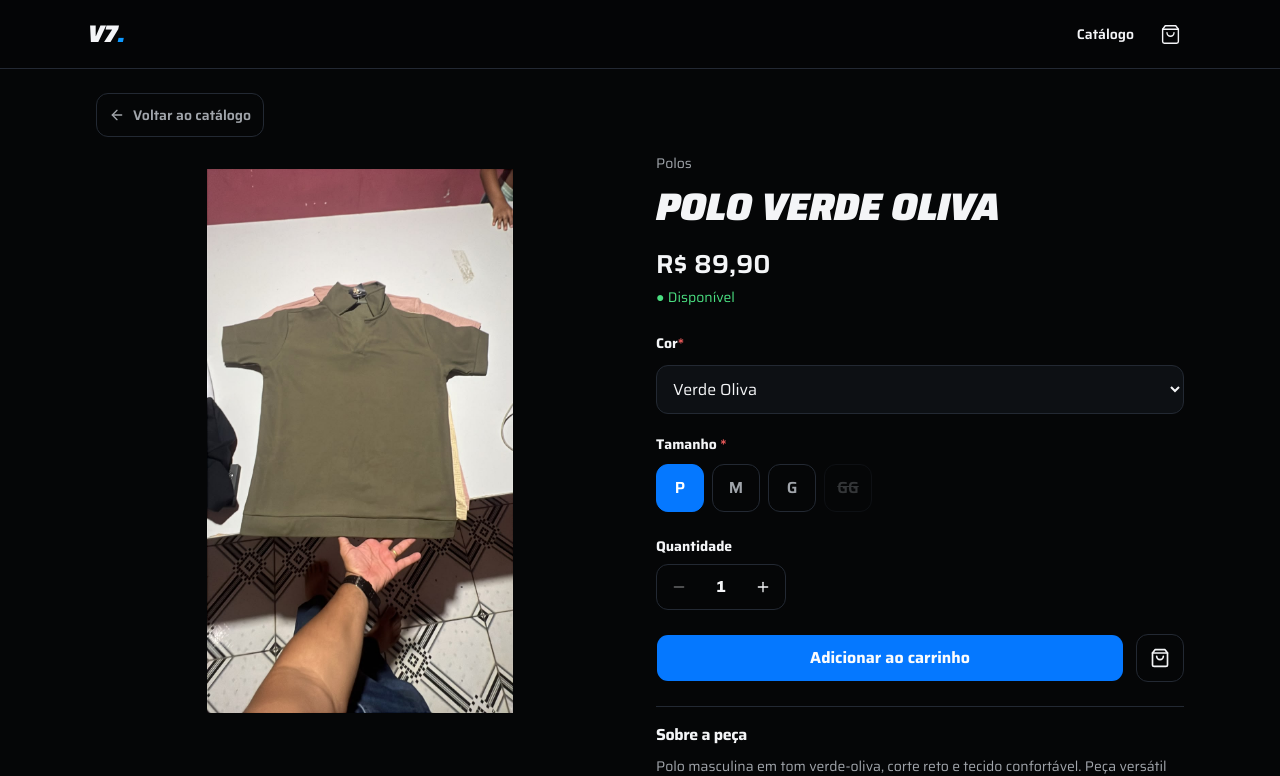
it: jornada de compra › orienta a finalização após adicionar e abre o formulário pelo aviso
Click the button "Adicionar ao carrinho".
click(890, 658)  # box [656,634,1124,682]
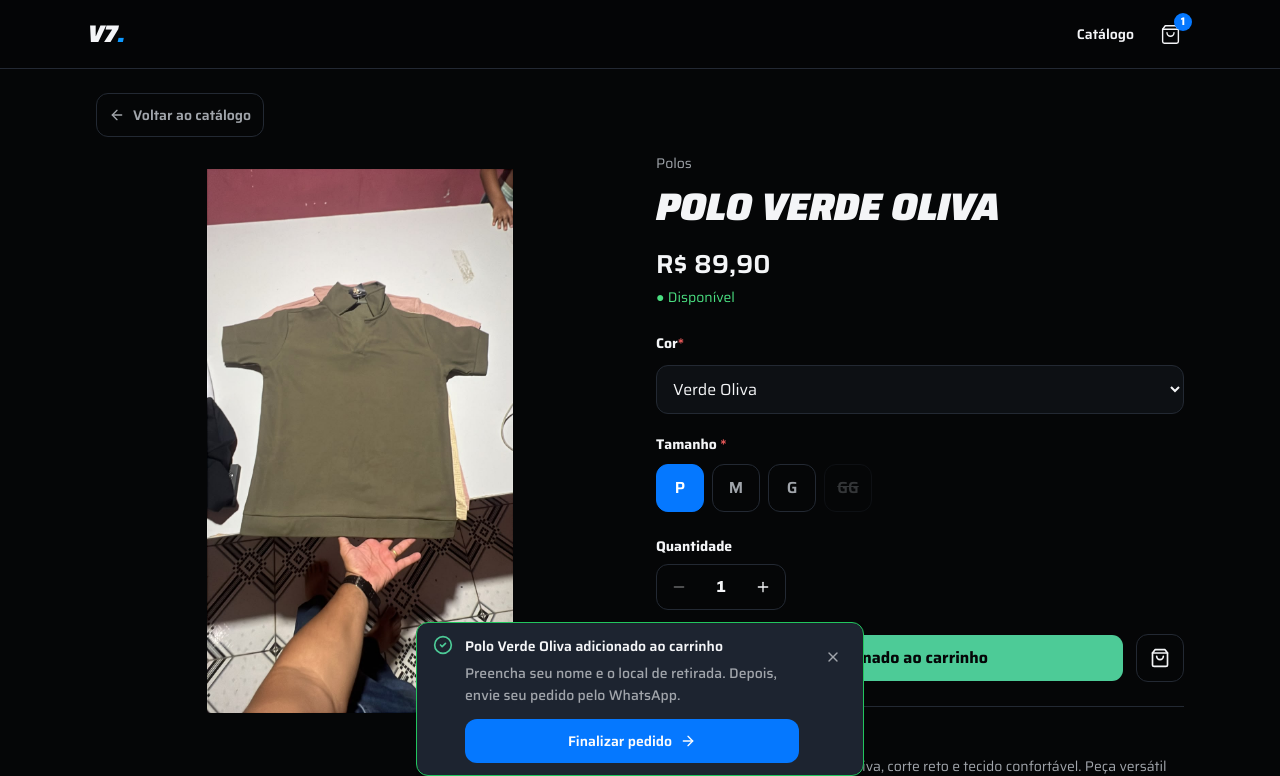
Result: the message shows "Polo Verde Oliva adicionado ao carrinho" at [465,635,723,657]
Result: the message shows "Preencha seu nome e o local de retirada" at [465,662,777,706]
Click the button "Finalizar pedido".
click(632, 741)  # box [465,719,799,763]
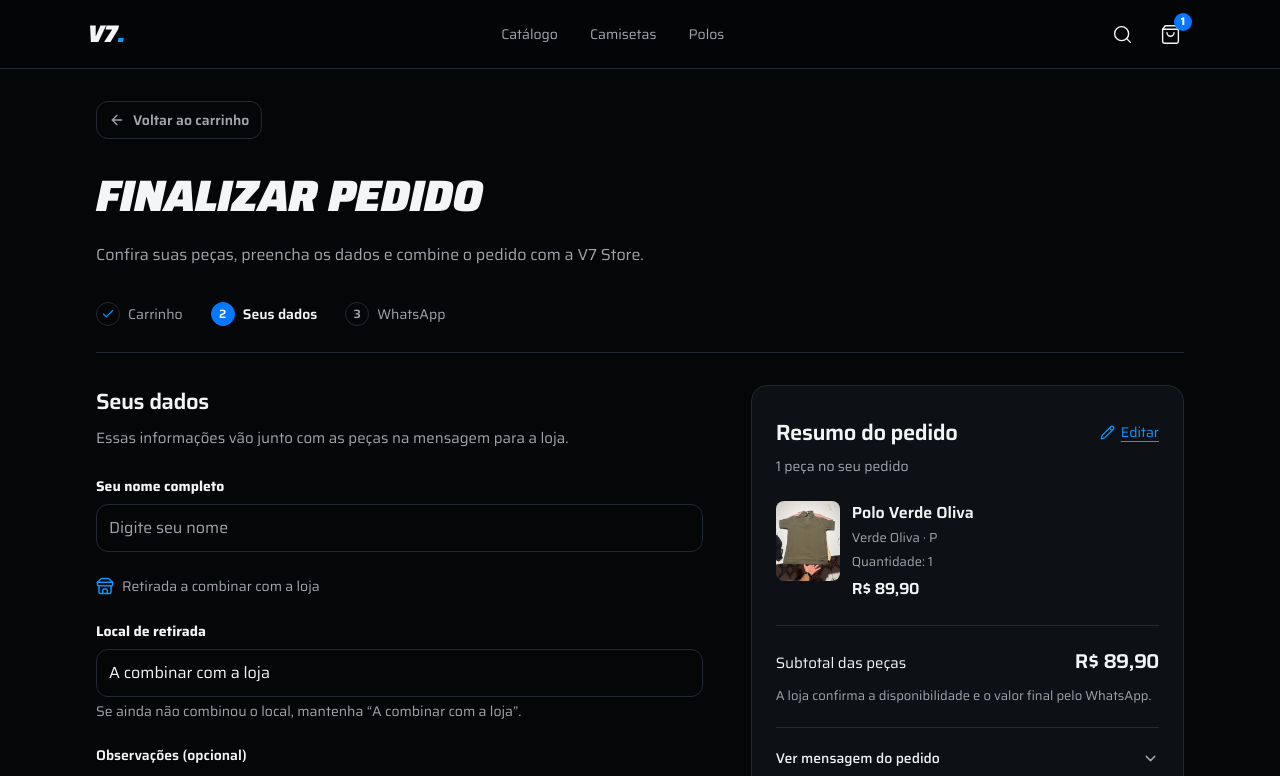
Result: the heading "Finalizar pedido" is shown at [96,161,483,230]
Result: the field labelled "Seu nome completo" is shown at [96,504,703,552]
Result: the field labelled "Local de retirada" is shown at [96,649,703,697]
